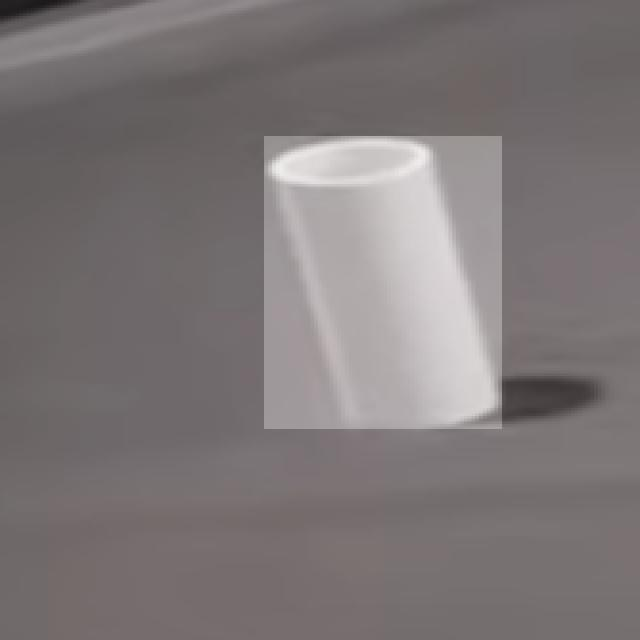Coral: (264, 136, 502, 429)
